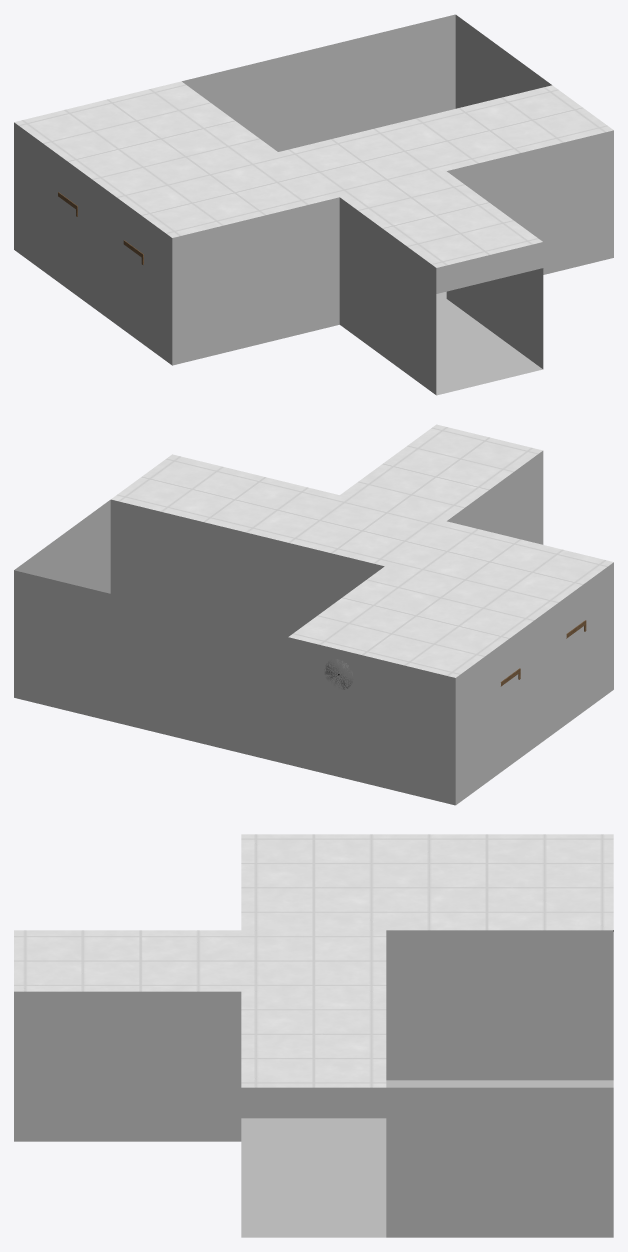
The model's file is SecurityOffice.fbx.
The picture shows the model from 3 angles, top to bottom: view 1: azimuth 30°, elevation 25°; view 2: azimuth 150°, elevation 25°; view 3: azimuth 270°, elevation 25°; orthographic projection. The views are drawn at different scales.
Visible parts, largest first — view 1: SecurityOffice; view 2: SecurityOffice; view 3: SecurityOffice.
Boxes of the visible parts, x1,y1,x2,y2 form: SecurityOffice: (14,14,613,395); SecurityOffice: (14,424,613,805); SecurityOffice: (14,834,613,1237).
Bounding box in the file's own units: 1002 × 276 × 1001.
